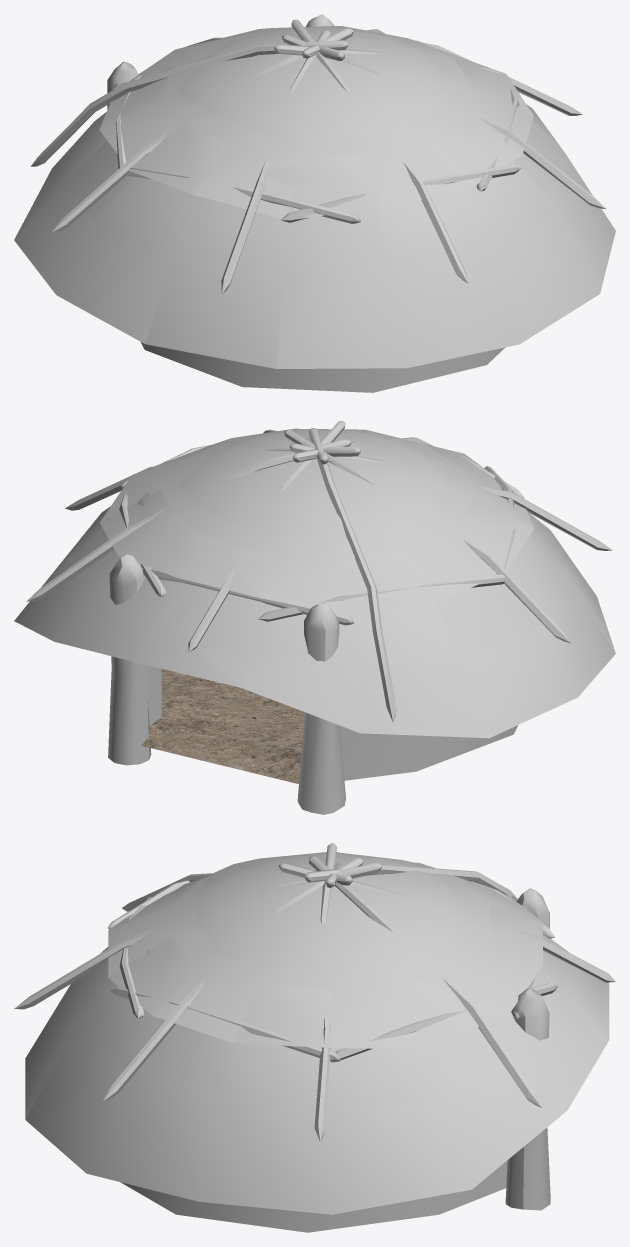
File: Sty_1.fbx
3 views of the same model, one above another, from view 1: azimuth 30°, elevation 25°; view 2: azimuth 150°, elevation 25°; view 3: azimuth 270°, elevation 25° (orthographic). The views are drawn at different scales.
Parts seen in each view (by area): view 1: Alpha, Wood; view 2: Alpha, Wood, Ground; view 3: Alpha, Wood.
Part boxes in pixels (box(x1,y1,x2,y2)): Alpha: box(14, 26, 615, 368); Wood: box(31, 14, 606, 392); Alpha: box(14, 428, 615, 738); Wood: box(26, 421, 612, 814); Ground: box(141, 669, 304, 783); Alpha: box(25, 852, 609, 1214); Wood: box(14, 843, 615, 1232).
Size of the model in its own units: 854 by 433 by 811.
